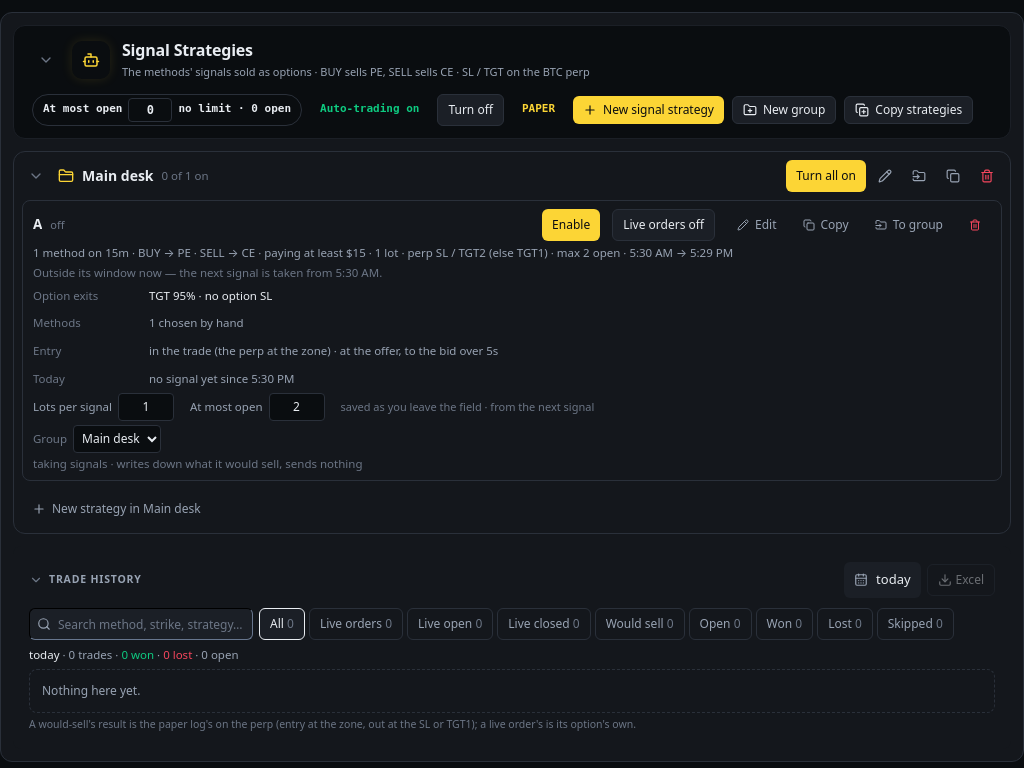
Scenario: the card, by group › [critical] a folded group keeps its heading and its expand button; expanded again, its strategies are back
Click the button named "Collapse group Main desk": (36, 176) [22,162,50,190]
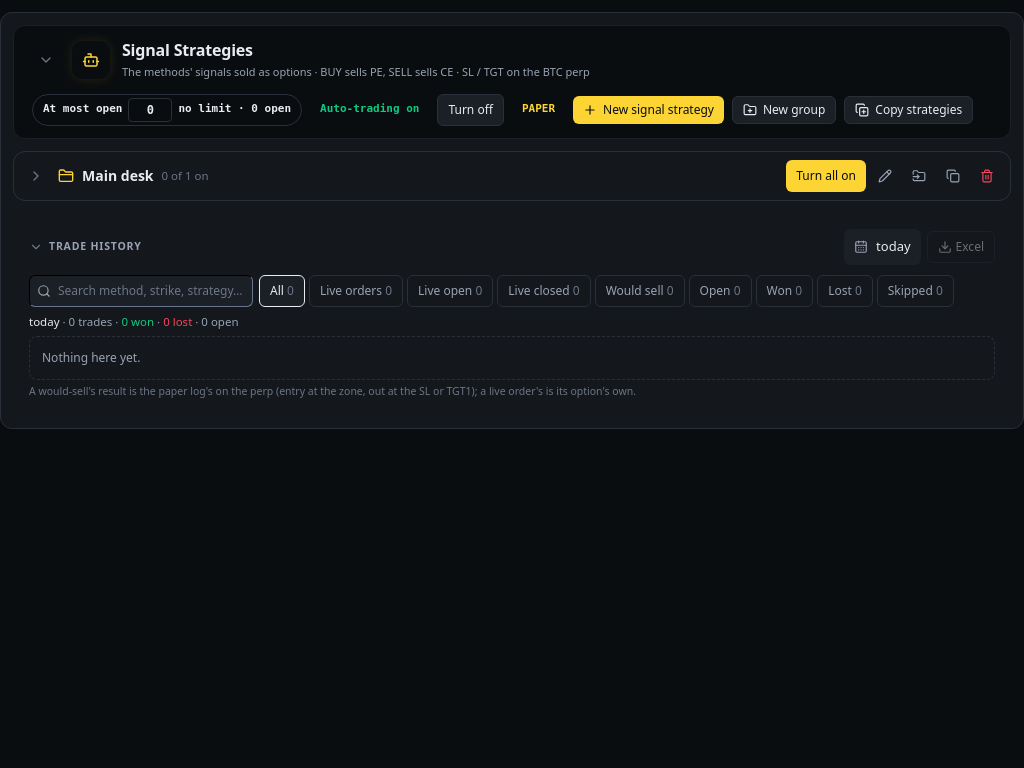
Expected: the heading "Main desk" is shown, [82,165,154,186]
Now the button named "Expand group Main desk" is collapsed
Click the button named "Expand group Main desk": (36, 176) [22,162,50,190]
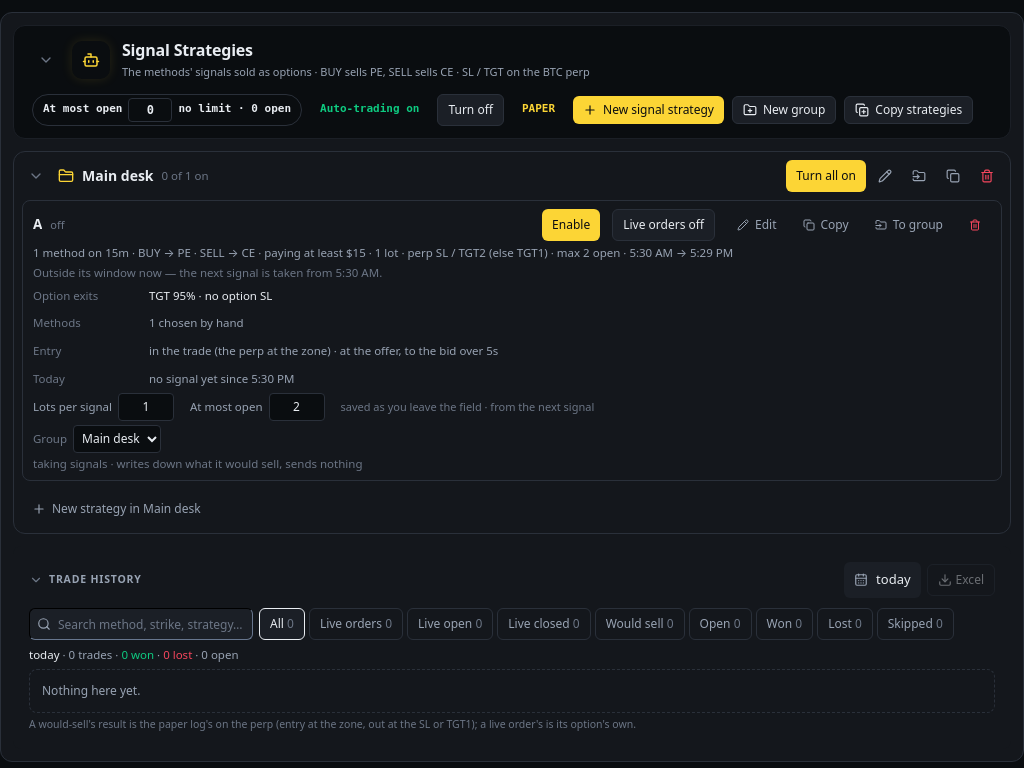
Now the button named "Collapse group Main desk" is expanded, box [22,162,50,190]
Now the text "A" is shown, box [33,214,42,235]
